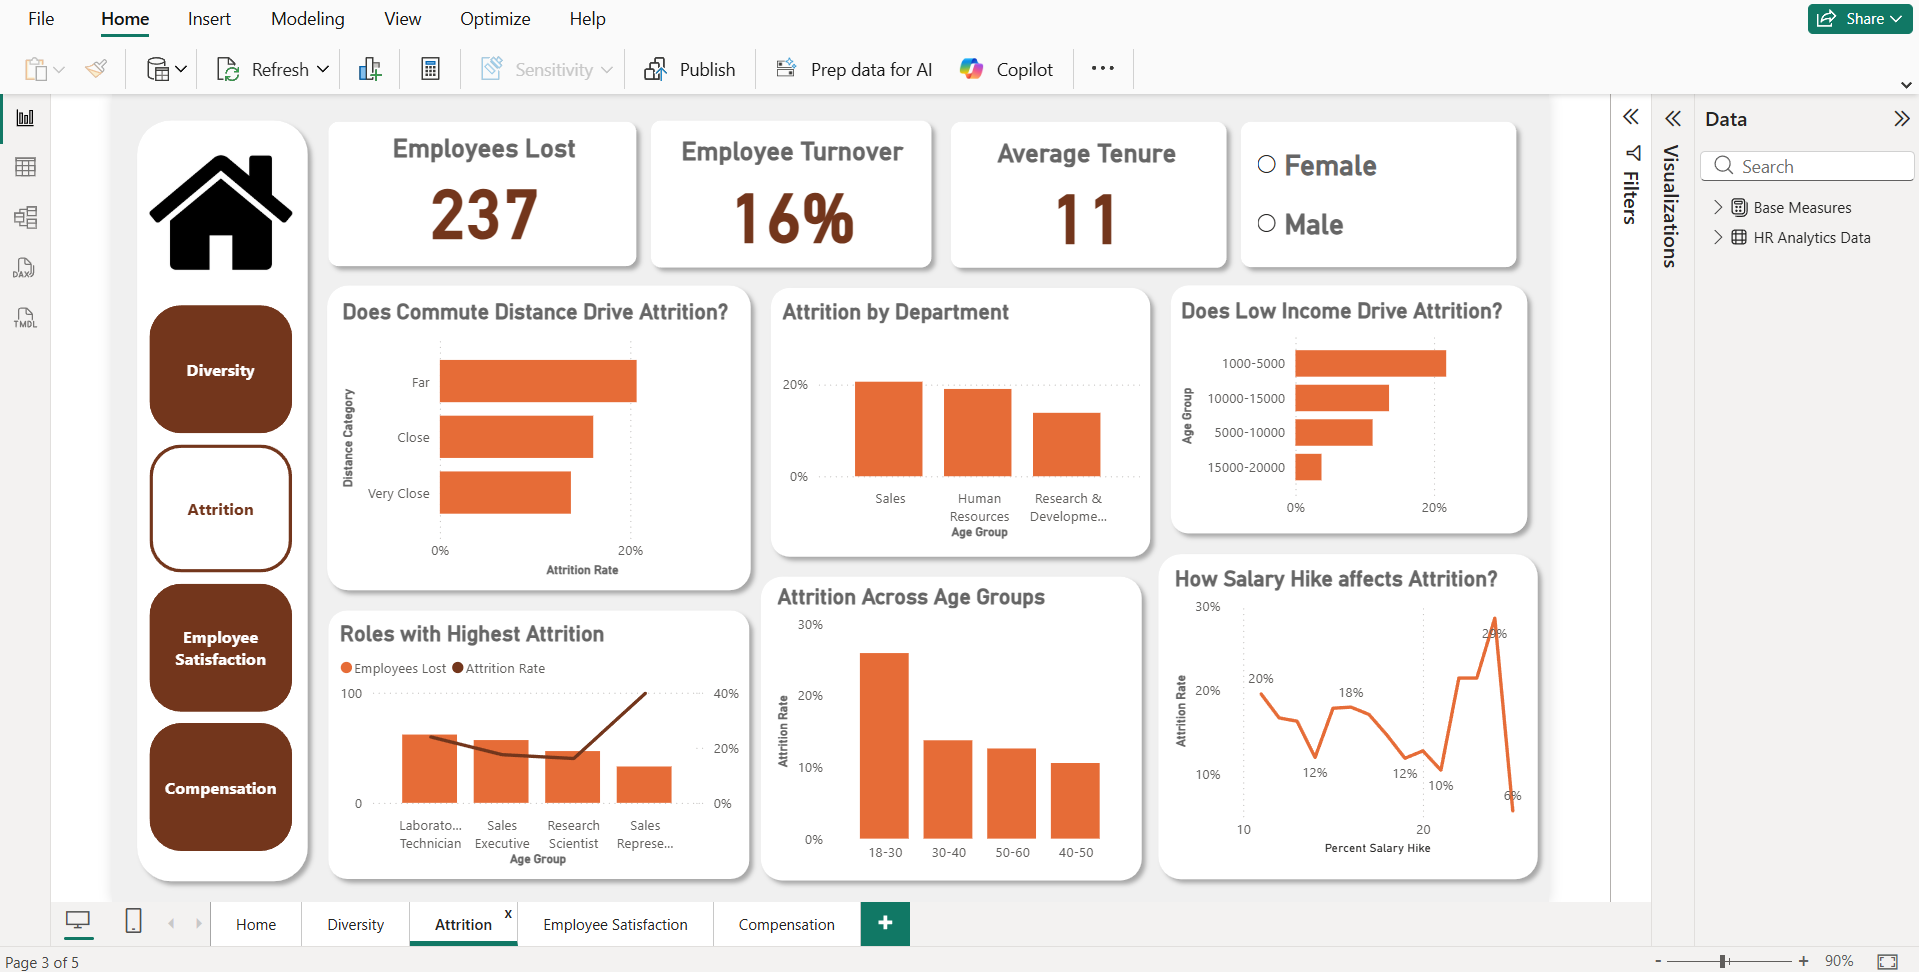

Layout of this report page (visuals, bound fields, positions):
{"tool":"powerbi","page":{"name":"Attrition","canvas":[1280,720],"ordinal":2},"visuals":[{"type":"group","id":"g1","title":"Group 3","box":[737.8,15.9,263.3,149],"z":0},{"type":"group","id":"g2","title":"Group 4","box":[996.3,15.9,263.3,147.6],"z":1000},{"type":"card","title":"Average Tenure","fields":{"Values":["Base Measures.Average Tenure"]},"box":[750.8,39.1,235.8,102.7],"z":2000},{"type":"shape","box":[933.8,161.7,335.4,238.9],"z":3000},{"type":"shape","box":[183.3,15.2,292.2,146.7],"z":4000},{"type":"shape","box":[922.9,400.5,355.9,307.6],"z":5000},{"type":"shape","box":[471.4,14.5,267.9,149],"z":6000},{"type":"shape","box":[737.8,15.9,263.5,148.2],"z":6000,"group":"g1"},{"type":"shape","box":[996.3,15.9,263.3,147.6],"z":7000,"group":"g2"},{"type":"shape","box":[577.2,163.5,355.9,257.5],"z":7000},{"type":"shape","box":[568.5,421,357.1,288.6],"z":8000,"group":"g3"},{"type":"shape","box":[183.8,451.3,392.9,257.1],"z":8000},{"type":"shape","box":[12.9,14.3,170,695.7],"z":9000},{"type":"shape","box":[182.8,161.8,395.2,289.5],"z":10000},{"type":"card","title":"Employees Lost","fields":{"Values":["Base Measures.Employees Lost"]},"box":[211.2,34.7,240.1,102.7],"z":11000},{"type":"barChart","title":"Does Commute Distance Drive Attrition?","fields":{"Category":["HR Analytics Data.Distance Category"],"Y":["Base Measures.Attrition Rate"]},"box":[200.3,182.2,363.1,252.1],"z":12000},{"type":"lineChart","title":"How Salary Hike affects Attrition?","fields":{"Category":["HR Analytics Data.PercentSalaryHike"],"Y":["Base Measures.Attrition Rate"]},"box":[942.2,421,320.9,261.8],"z":13000},{"type":"clusteredColumnChart","title":"Attrition by Department","fields":{"Category":["HR Analytics Data.Department"],"Y":["Base Measures.Attrition Rate"]},"box":[592.1,182.4,328.3,218.8],"z":14000},{"type":"card","title":"Employee Turnover","fields":{"Values":["Base Measures.Attrition Rate"]},"box":[487.4,36.2,236.5,105],"z":15000},{"type":"listSlicer","fields":{"Values":["HR Analytics Data.Gender"]},"box":[1014.6,32.6,226.8,114.6],"z":16000},{"type":"columnChart","title":"Attrition Across Age Groups","fields":{"Category":["HR Analytics Data.Age Group"],"Y":["Base Measures.Attrition Rate"]},"box":[586.9,437.1,321.6,257],"z":16000,"group":"g3"},{"type":"group","id":"g3","title":"Group 1","box":[568.5,421,357.1,288.6],"z":17000},{"type":"lineStackedColumnComboChart","title":"Roles with Highest Attrition","fields":{"Category":["HR Analytics Data.JobRole"],"Y":["Base Measures.Employees Lost"],"Y2":["Base Measures.Attrition Rate"]},"box":[198.2,469.3,366,222.5],"z":18000},{"type":"barChart","title":"Does Low Income Drive Attrition?","fields":{"Category":["HR Analytics Data.Income group"],"Y":["Base Measures.Attrition Rate"]},"box":[947.1,181,308.8,205.1],"z":19000},{"type":"pageNavigator","box":[33.8,188.2,127.9,489.8],"z":20000},{"type":"image","box":[33.8,36.2,127.5,137.5],"z":21000}]}

Visuals, with their boxes on the page's 1280x720 design canvas (x1, y1, x2, y2). These are canvas units, not pixel positions in the 1919x972 screenshot, which may show the page scaled, cropped or inside an application window:
"Group 3" group: rect(738, 16, 1001, 165)
"Group 4" group: rect(996, 16, 1260, 164)
"Average Tenure" card: rect(751, 39, 987, 142)
shape: rect(934, 162, 1269, 401)
shape: rect(183, 15, 476, 162)
shape: rect(923, 400, 1279, 708)
shape: rect(471, 14, 739, 164)
shape: rect(738, 16, 1001, 164)
shape: rect(996, 16, 1260, 164)
shape: rect(577, 164, 933, 421)
shape: rect(568, 421, 926, 710)
shape: rect(184, 451, 577, 708)
shape: rect(13, 14, 183, 710)
shape: rect(183, 162, 578, 451)
"Employees Lost" card: rect(211, 35, 451, 137)
"Does Commute Distance Drive Attrition?" barChart: rect(200, 182, 563, 434)
"How Salary Hike affects Attrition?" lineChart: rect(942, 421, 1263, 683)
"Attrition by Department" clusteredColumnChart: rect(592, 182, 920, 401)
"Employee Turnover" card: rect(487, 36, 724, 141)
listSlicer - HR Analytics Data.Gender: rect(1015, 33, 1241, 147)
"Attrition Across Age Groups" columnChart: rect(587, 437, 908, 694)
"Group 1" group: rect(568, 421, 926, 710)
"Roles with Highest Attrition" lineStackedColumnComboChart: rect(198, 469, 564, 692)
"Does Low Income Drive Attrition?" barChart: rect(947, 181, 1256, 386)
pageNavigator: rect(34, 188, 162, 678)
image: rect(34, 36, 161, 174)
